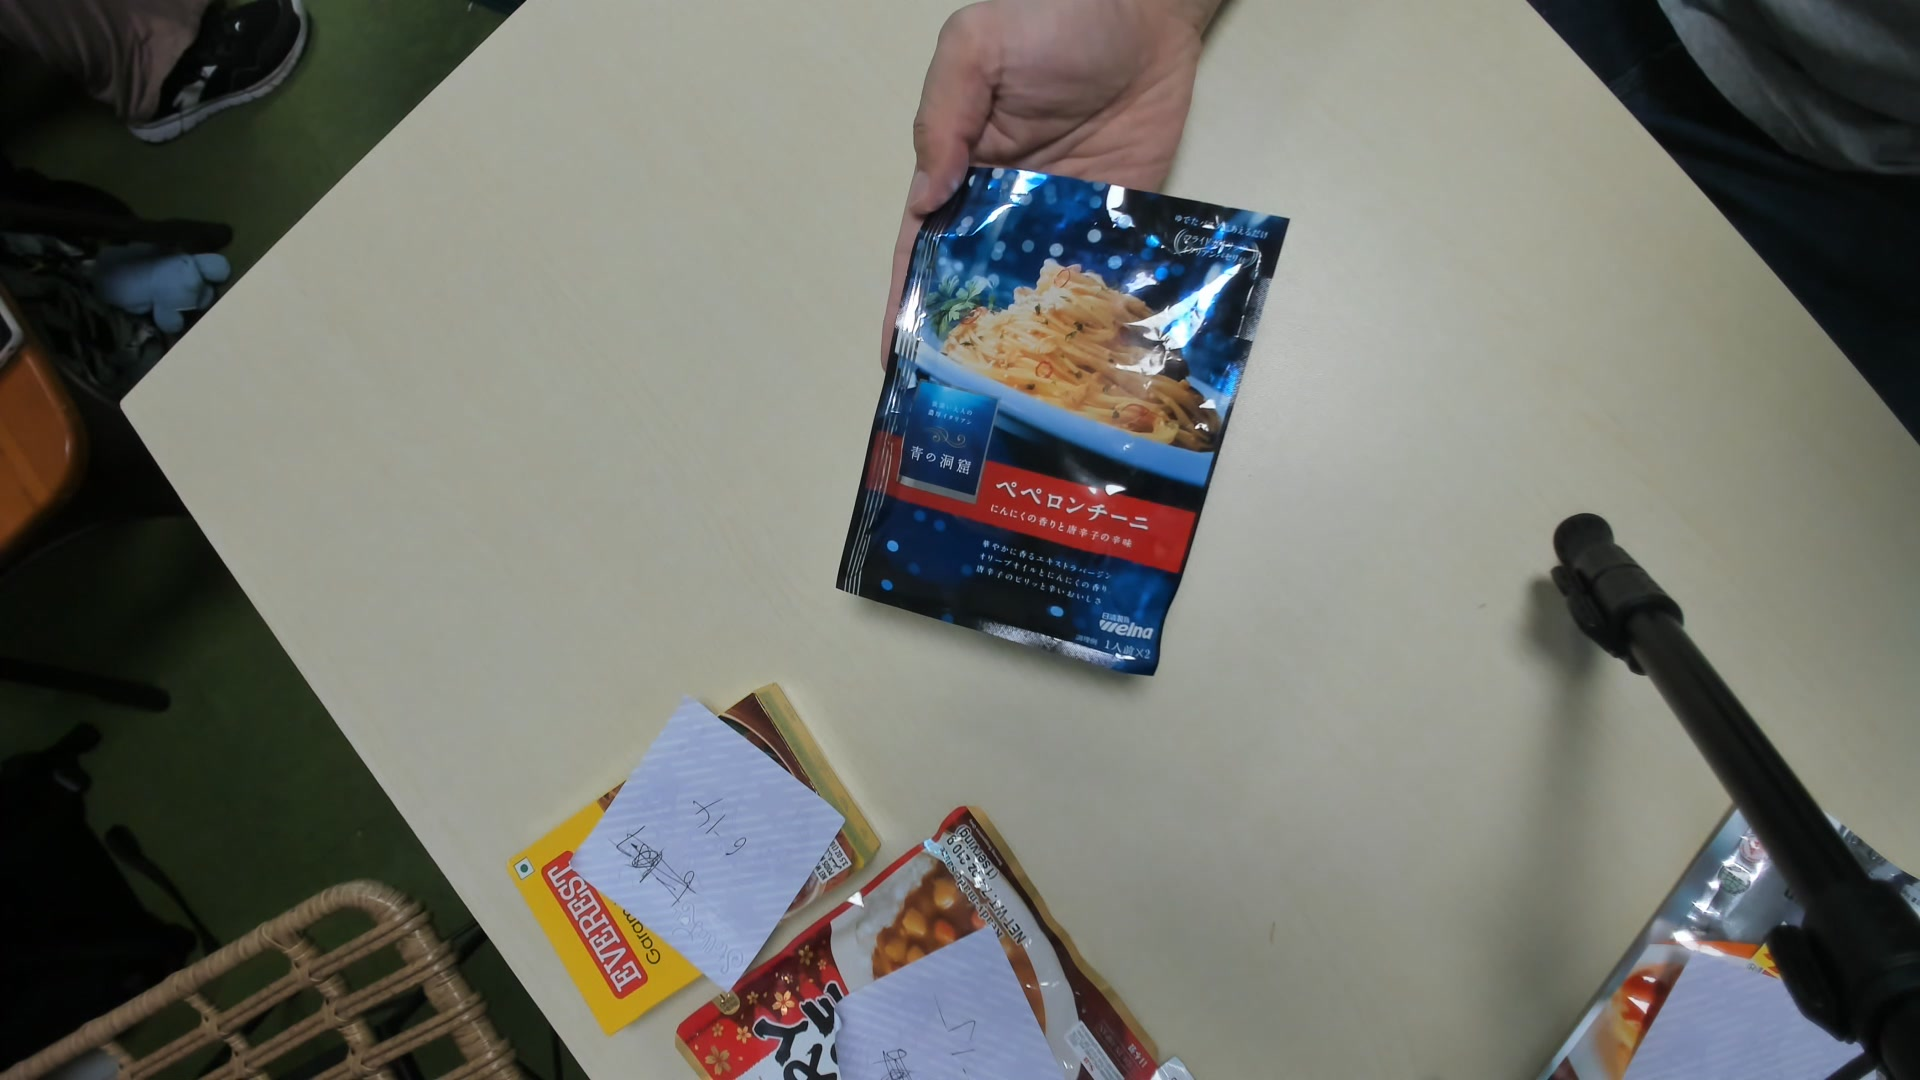CurryPastePowderSauce_0-99g_NonHalal_NonHealthy: (833, 150, 1284, 684)
